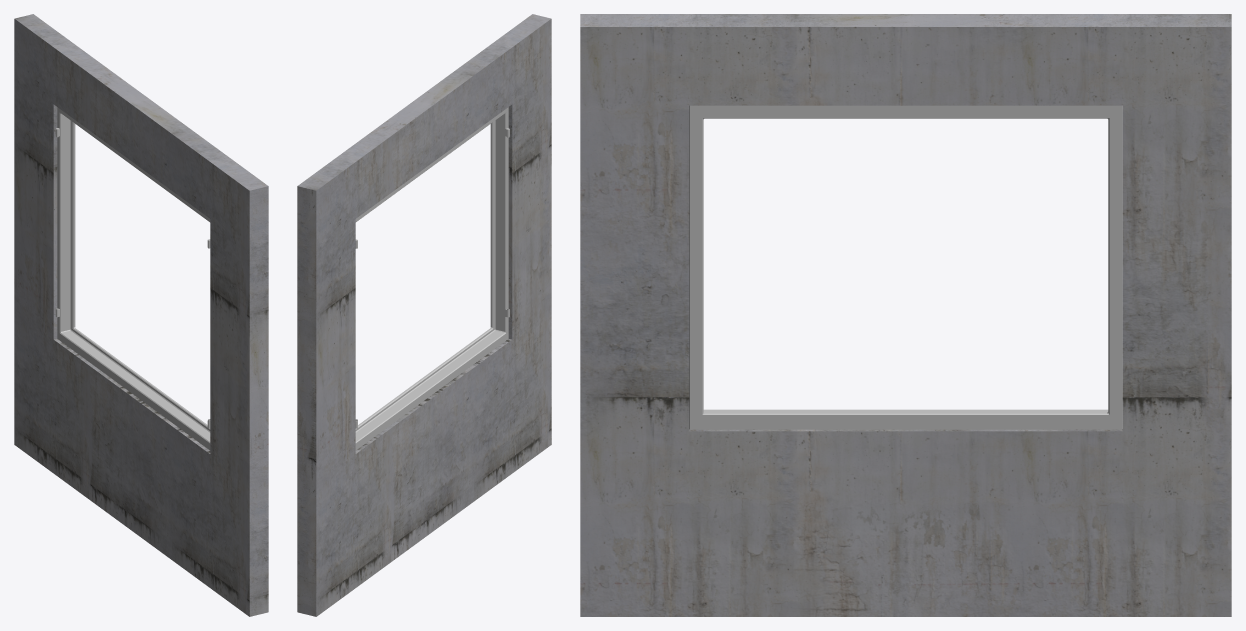
Rendered from SM_Wall_Window_300_01.fbx.
3 views of the same model, side by side, from view 1: azimuth 30°, elevation 25°; view 2: azimuth 150°, elevation 25°; view 3: azimuth 270°, elevation 25° (orthographic). The views are drawn at different scales.
Parts seen in each view (by area): view 1: SM_Wall_Window_300_01_LOD0; view 2: SM_Wall_Window_300_01_LOD0; view 3: SM_Wall_Window_300_01_LOD0.
Boxes of the visible parts, <box> form: SM_Wall_Window_300_01_LOD0: <box>14,14,268,616</box>; SM_Wall_Window_300_01_LOD0: <box>297,14,551,616</box>; SM_Wall_Window_300_01_LOD0: <box>580,14,1231,616</box>.
Size of the model in its own units: 14 by 300 by 300.
